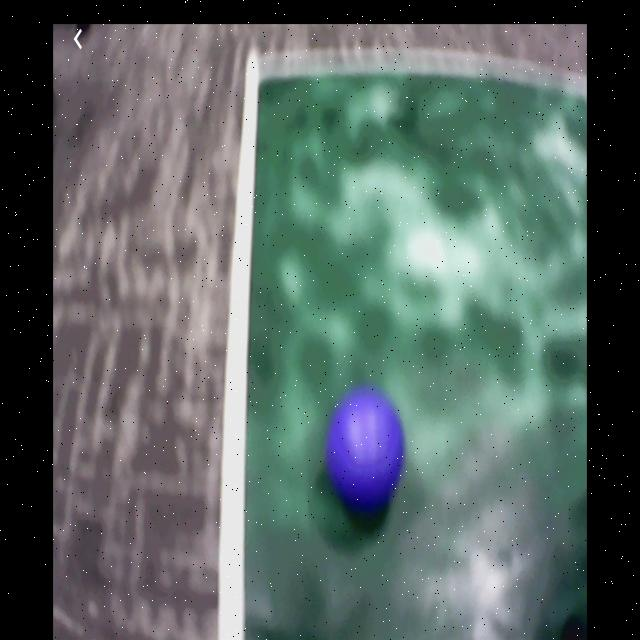ball: (331, 388, 405, 509)
